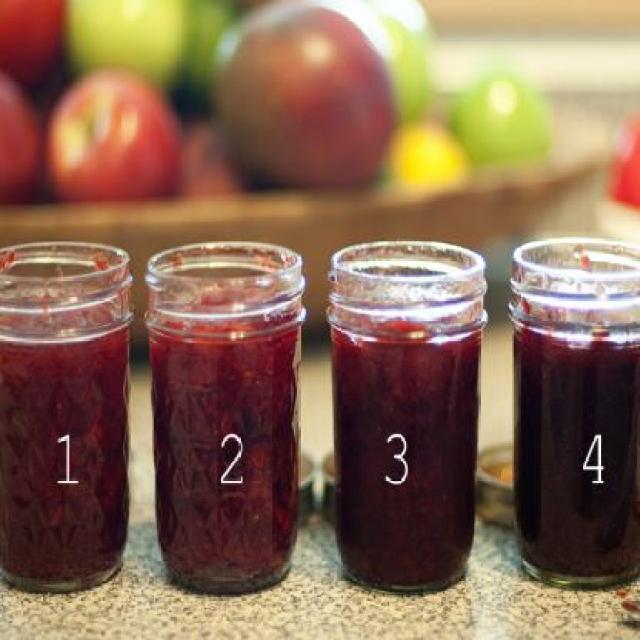Tomato: (28, 70, 198, 210)
